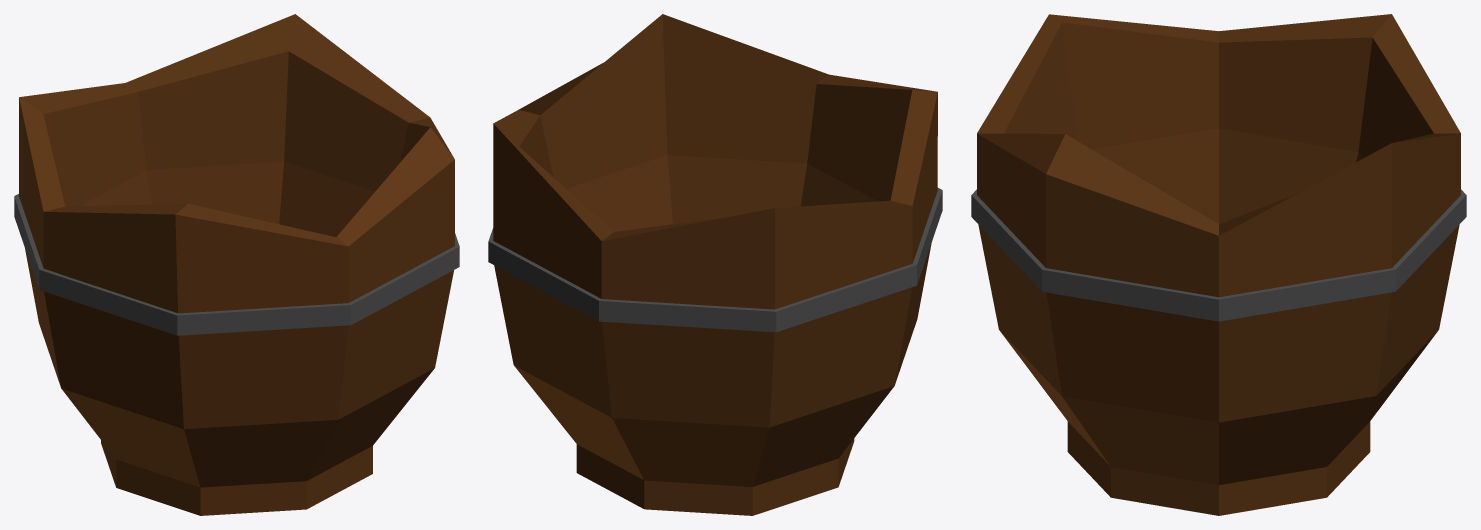
Rendered from Barrel01_Broken.fbx.
3 views of the same model, side by side, from view 1: azimuth 30°, elevation 25°; view 2: azimuth 150°, elevation 25°; view 3: azimuth 270°, elevation 25° (orthographic). The views are drawn at different scales.
Parts seen in each view (by area): view 1: Cube; view 2: Cube; view 3: Cube.
Boxes of the visible parts, box(x1,y1,x2,y2) form: Cube: box(14, 14, 459, 515); Cube: box(488, 14, 942, 515); Cube: box(971, 14, 1466, 515).
Bounding box in the file's own units: 97.78 × 83.46 × 97.78.
